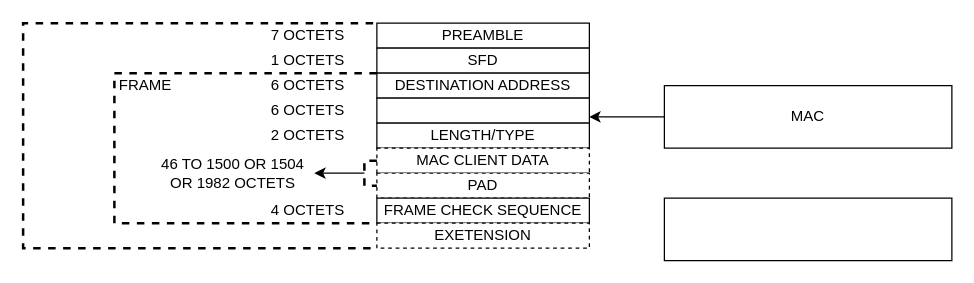
This 974x283 diagram has some shape labels left out. Here are the shapes that lost their labels. From the top down, the box of each, then its label:
(376, 97, 589, 123): SOURCE ADDRESS
(21, 21, 374, 249): PACKET
(663, 197, 952, 261): RS
